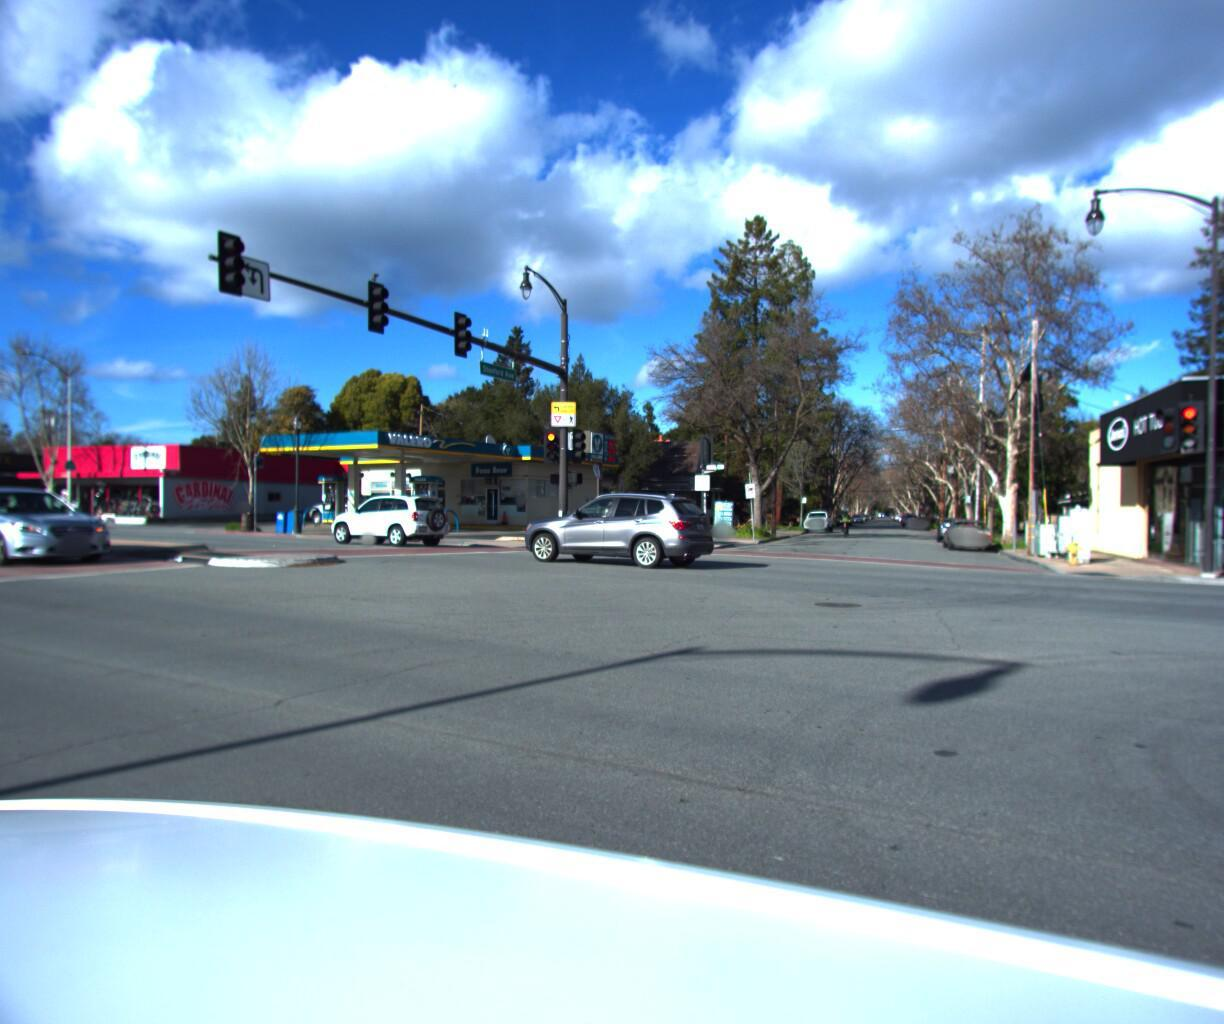bicycle: (838, 510, 854, 540), (133, 502, 152, 521), (142, 502, 162, 521)
car: (515, 494, 726, 573), (317, 495, 458, 549), (302, 495, 390, 530), (941, 518, 998, 554), (935, 516, 972, 543), (802, 511, 834, 532)
